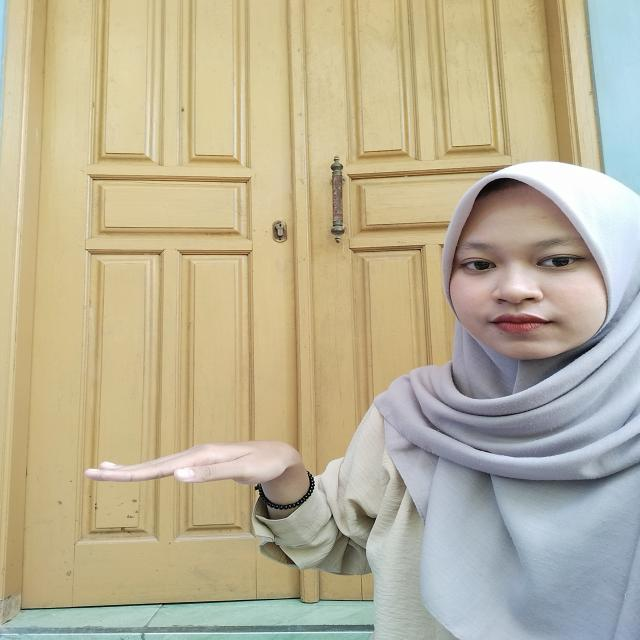adik: (85, 432, 334, 522)
